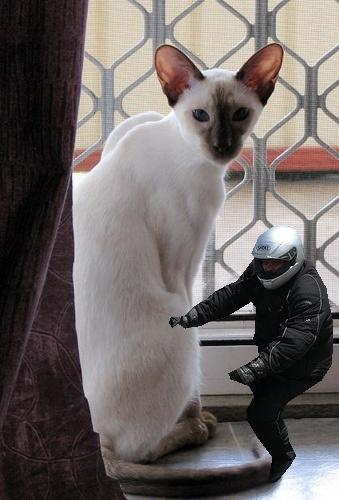tampered: (170, 227, 333, 483)
